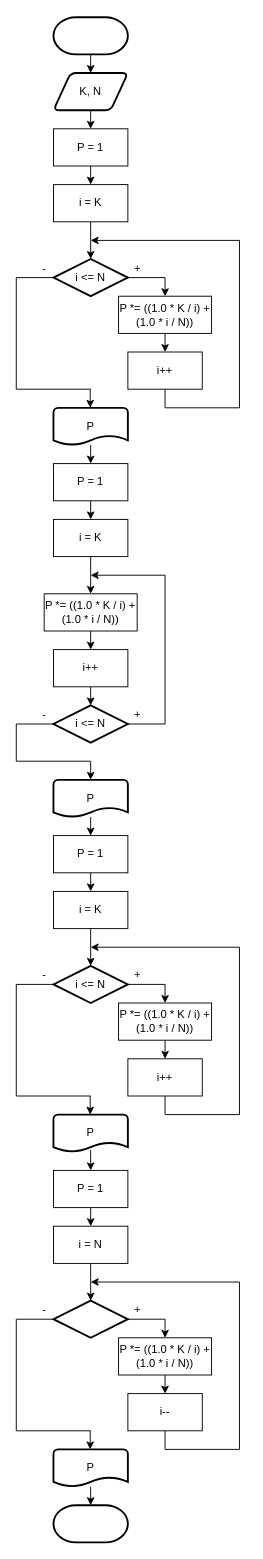
This 263x1559 diagram has some shape labels left out. The shapes that lost their labels are listed below. From the top down, each one's centre as x and y in pixels, then its label:
At pixel 90 35: "Початок".
At pixel 90 1318: "i >= K".
At pixel 90 1523: "Кінець".
